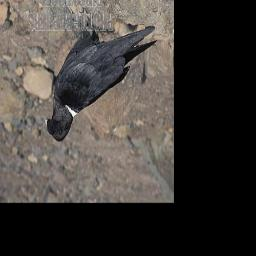Crow: (42, 3, 159, 143)
